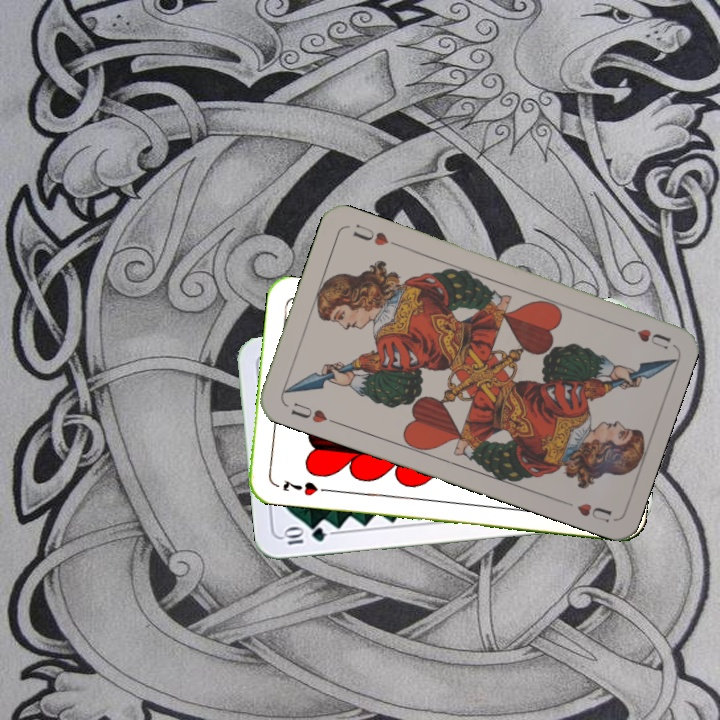G10: (279, 524, 329, 547)
H7: (279, 476, 321, 499)
HU: (617, 321, 674, 352), (286, 398, 340, 427)
